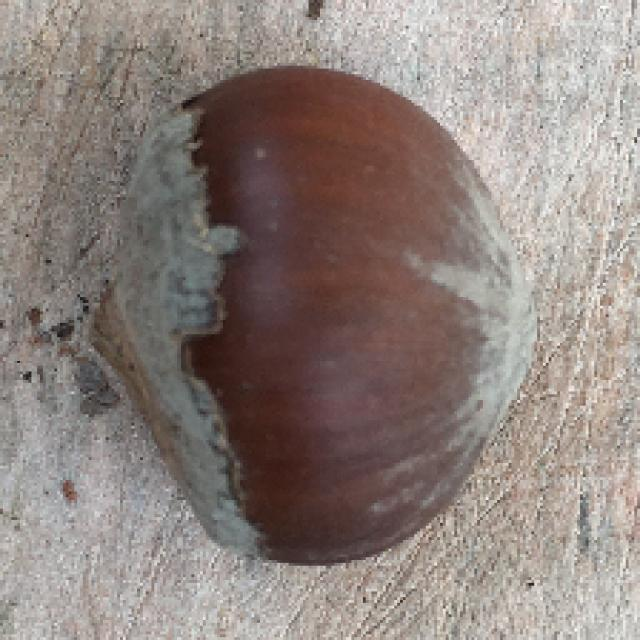damagedHazelnut: (77, 63, 546, 564)
